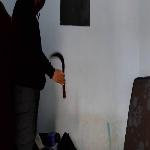Celurit: (42, 45, 76, 105)
